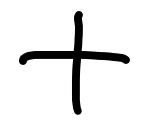plus: (19, 11, 131, 115)
